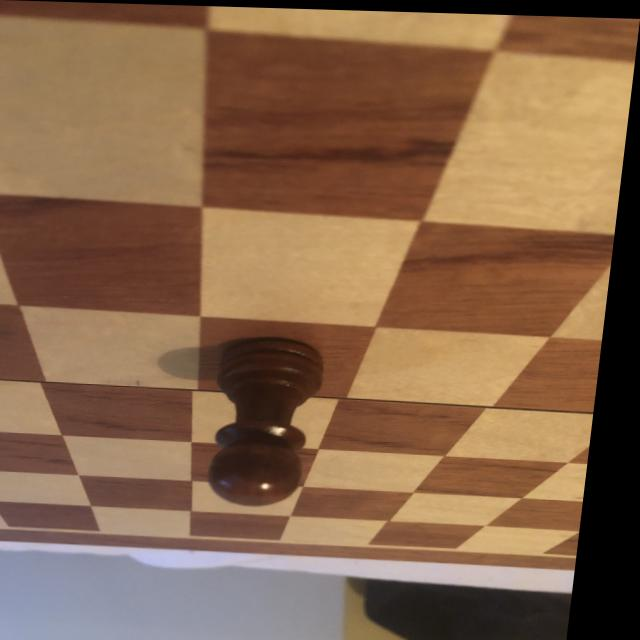black_pawn: (213, 333, 333, 505)
